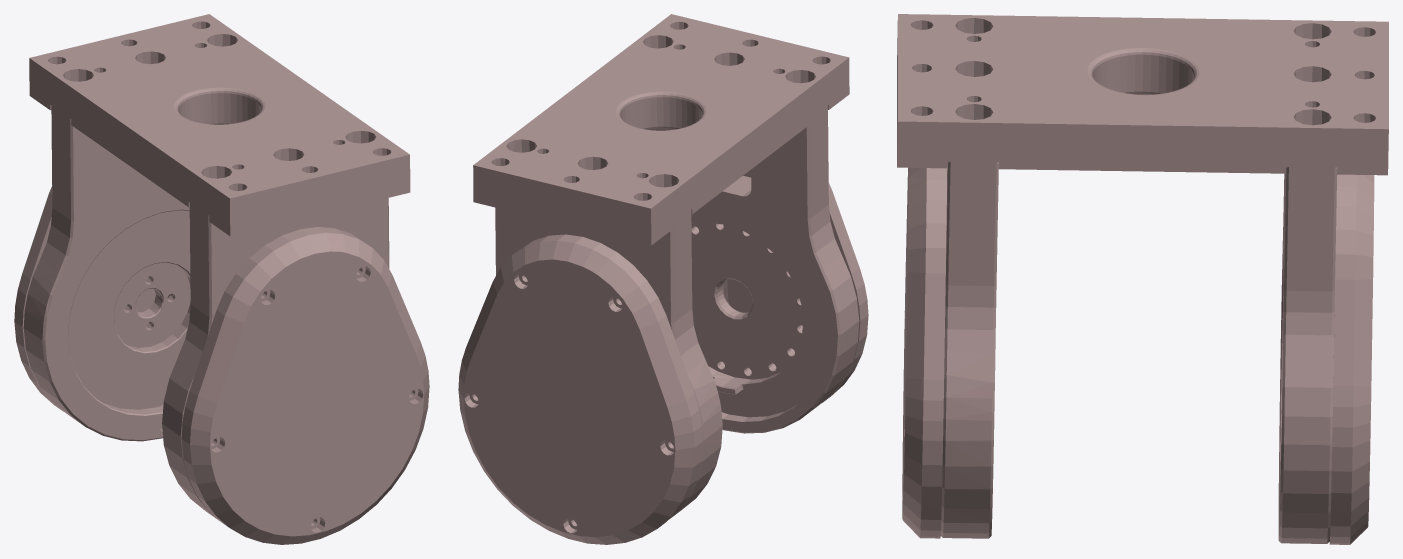
File: converted_body_Link1_b29999ff.obj
3 views of the same model, side by side, from view 1: azimuth 30°, elevation 25°; view 2: azimuth 150°, elevation 25°; view 3: azimuth 270°, elevation 25° (orthographic). The views are drawn at different scales.
Bounding box in the file's own units: 0.133 × 0.1999 × 0.1933.
